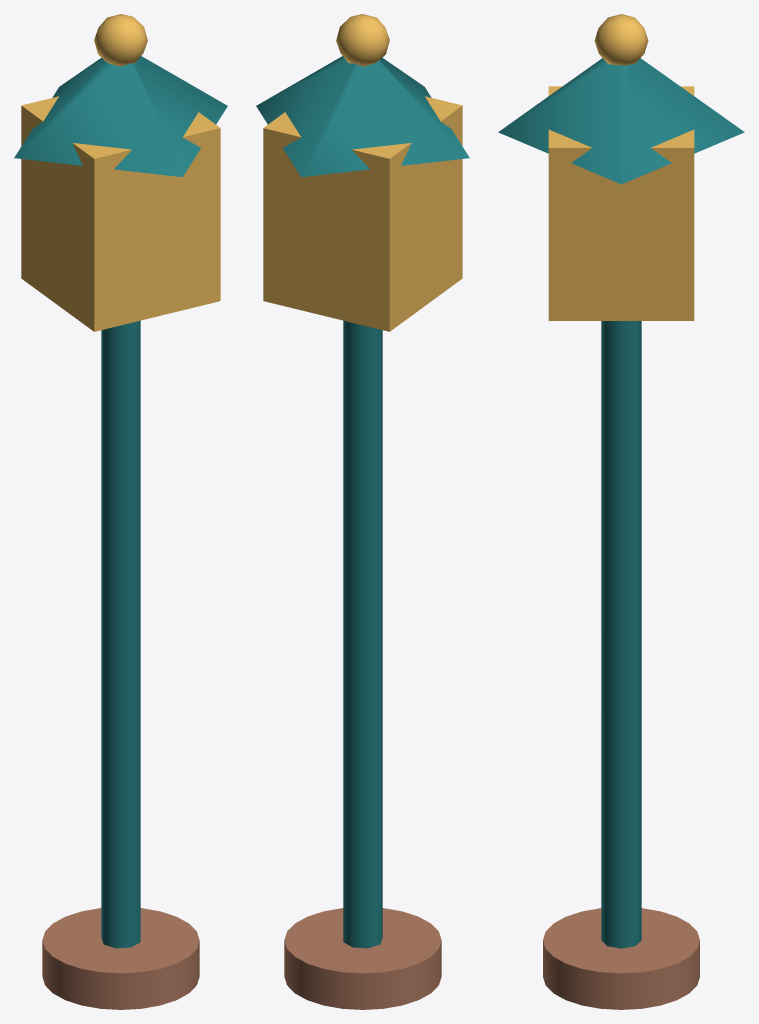
The model's file is deco_lamp.glb.
The picture shows the model from 3 angles, left to right: view 1: azimuth 30°, elevation 25°; view 2: azimuth 150°, elevation 25°; view 3: azimuth 270°, elevation 25°; orthographic projection.
Parts seen in each view (by area): view 1: deco_lamp; view 2: deco_lamp; view 3: deco_lamp.
Boxes of the visible parts, box(x1,y1,x2,y2) form: deco_lamp: box(14, 14, 227, 1009); deco_lamp: box(256, 14, 469, 1009); deco_lamp: box(498, 14, 744, 1009).
Bounding box in the file's own units: 1.1 × 4.72 × 1.1.
